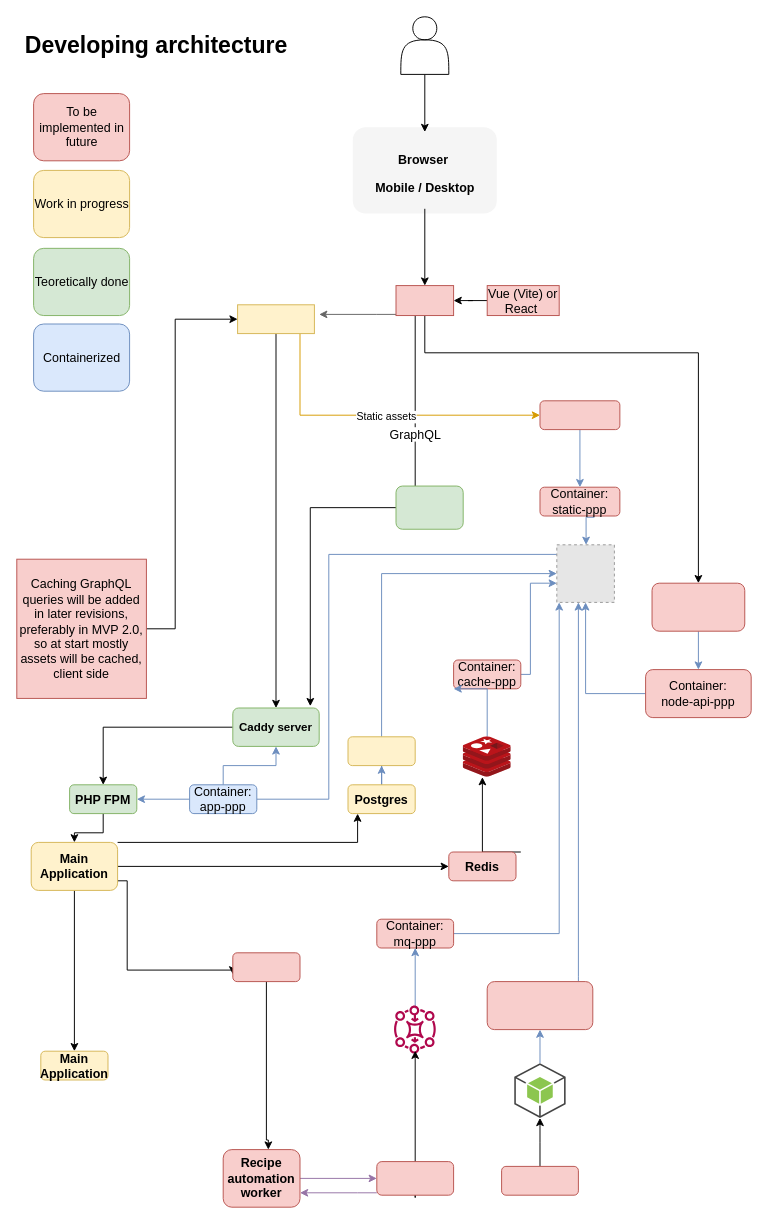
Some shapes in this 768 by 1224 pixel diagram are drawn without their labels. Grey dashed boxes stand in for pictures. The shapes that lost their labels are listed below. From the top down, each one's centre as x and y in pixels, then its label:
At point 275,319: "Http Cache".
At point 424,300: "SPA".
At point 579,415: "busybox httpd".
At point 429,507: "API".
At point 698,606: "api with tesseract.js, maybe wasm".
At point 381,751: "Container: db-ppp".
At point 266,967: "Workers".
At point 539,1005: "Container: node-worker-ppp".
At point 415,1178: "RabbitMQ".
At point 539,1180: "Recipe parser".
